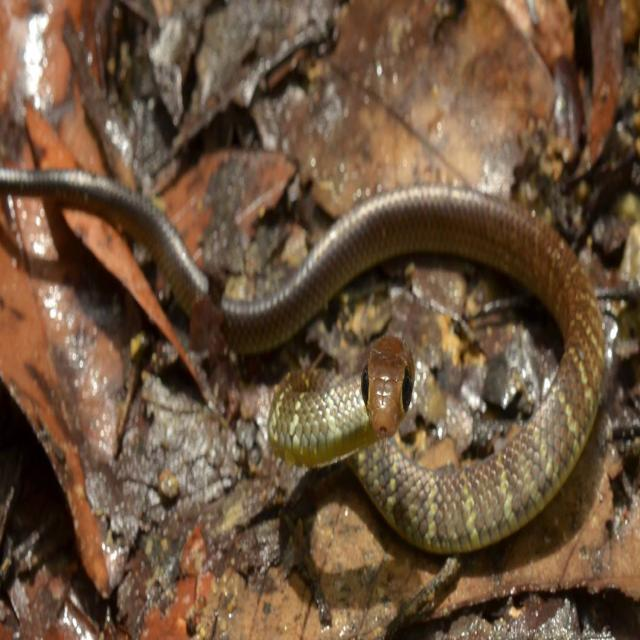Snake: (1, 161, 606, 556)
